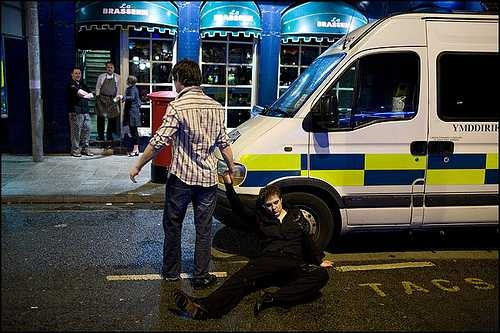Police Van: (207, 6, 500, 254)
